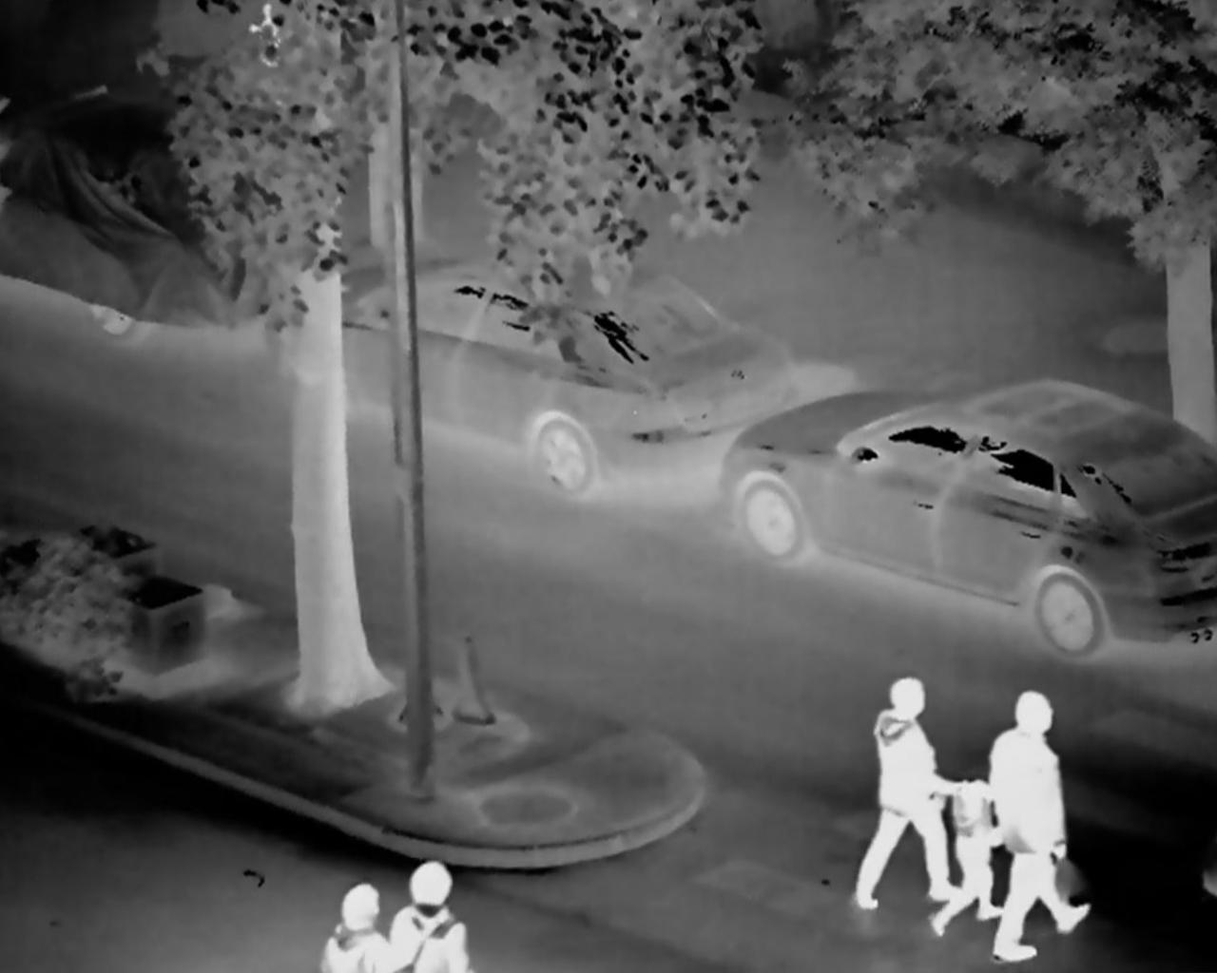person: (976, 689, 1096, 963), (850, 673, 958, 909), (936, 775, 1003, 933), (391, 859, 471, 973), (318, 878, 390, 973)
